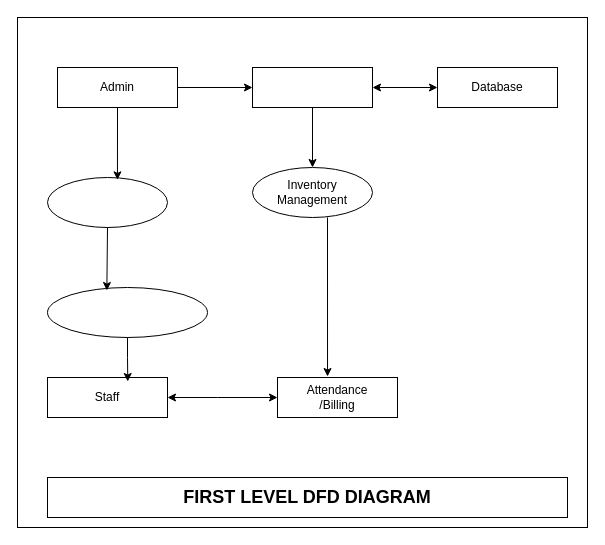
Some shapes in this 605 by 545 pixel diagram are drawn without their labels. Each missing label, with the centre of its shape:
Admin Dashboard: (312,87)
Reports, Salary Info: (127,312)
Salary management: (107,202)
